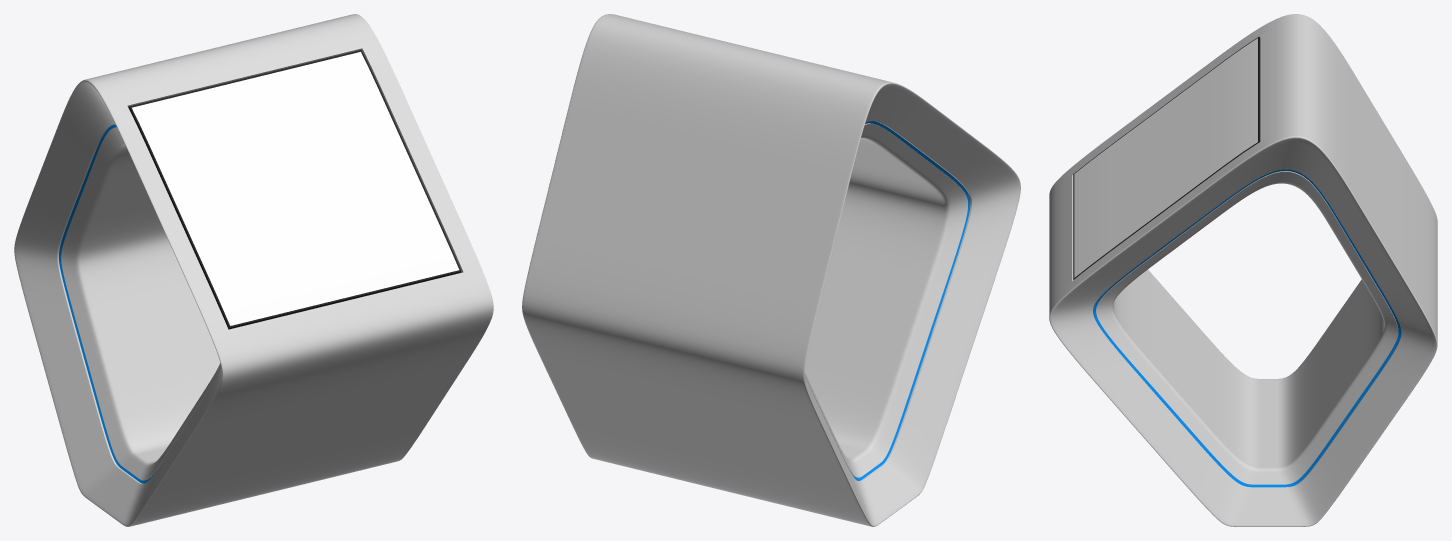
Rendered from Hud2.glb.
3 views of the same model, side by side, from view 1: azimuth 30°, elevation 25°; view 2: azimuth 150°, elevation 25°; view 3: azimuth 270°, elevation 25° (orthographic). The views are drawn at different scales.
Parts seen in each view (by area): view 1: 3DGeom-1, 3DGeom-4, 3DGeom-3, 3DGeom-2; view 2: 3DGeom-1, 3DGeom-2; view 3: 3DGeom-1, 3DGeom-4, 3DGeom-2, 3DGeom-3.
Part boxes in pixels (x1,y1,x2,y2): 3DGeom-1: (14,14,493,526); 3DGeom-4: (132,52,459,325); 3DGeom-3: (128,50,461,329); 3DGeom-2: (59,124,154,483); 3DGeom-1: (522,14,1020,526); 3DGeom-2: (852,121,970,480); 3DGeom-1: (1049,14,1437,526); 3DGeom-4: (1074,38,1257,277); 3DGeom-2: (1093,169,1401,487); 3DGeom-3: (1073,37,1260,279).
Size of the model in its own units: 0.000839 by 0.00124 by 0.00112.
